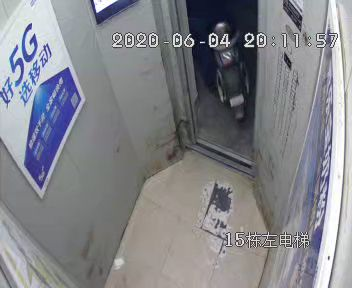Electric-bicycle: (202, 20, 261, 120)
